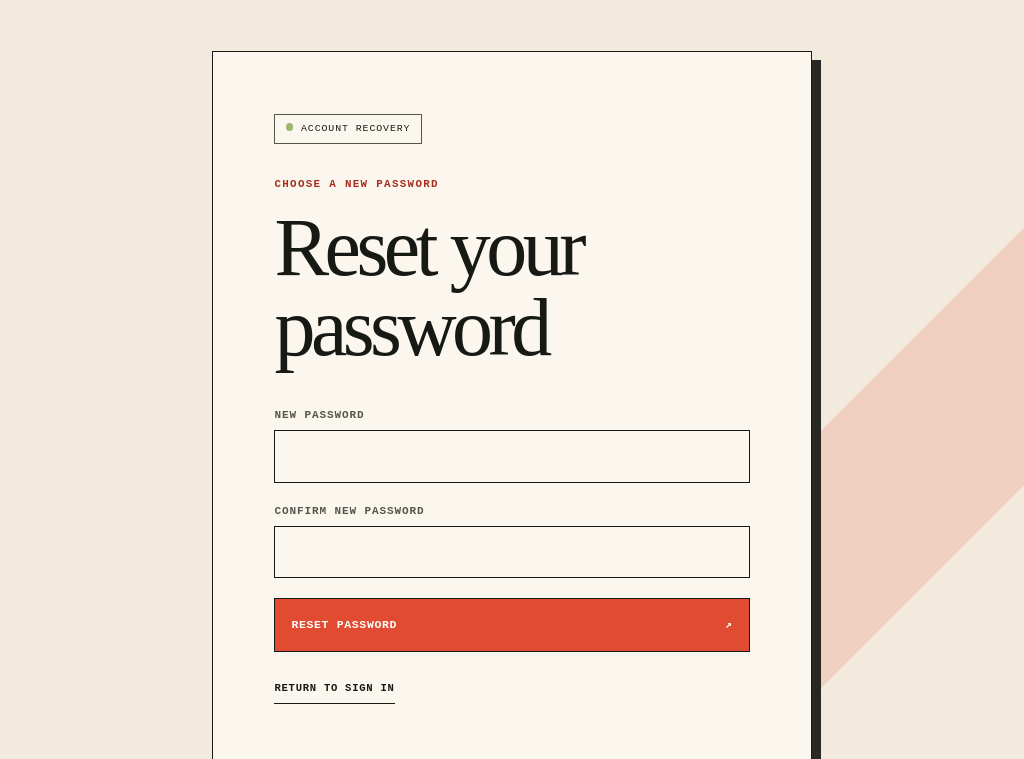
Test case: AI project workshop › renders the stable ACCOUNT_ACTION_EXPIRED reset state without backend copy
Type "UpdatedPassword123!" into the password field labelled "New password". click: (512, 456)
box: 274,430 -> 750,483
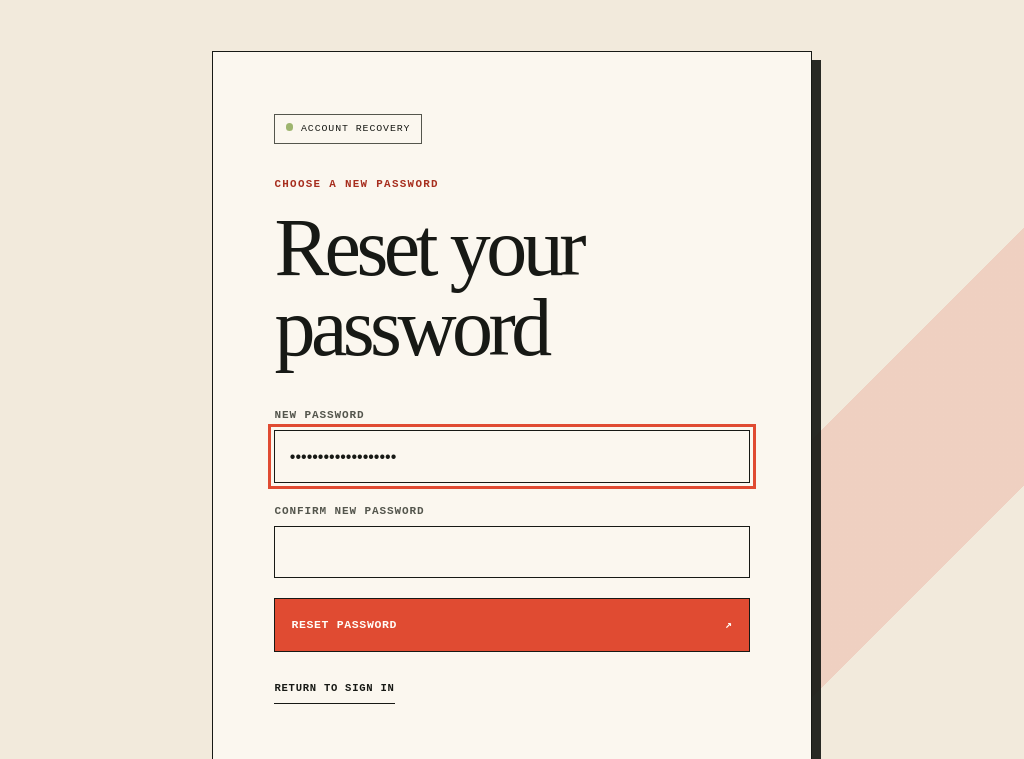
Type "UpdatedPassword123!" into the password field labelled "Confirm new password". click: (512, 552)
box: 274,526 -> 750,578
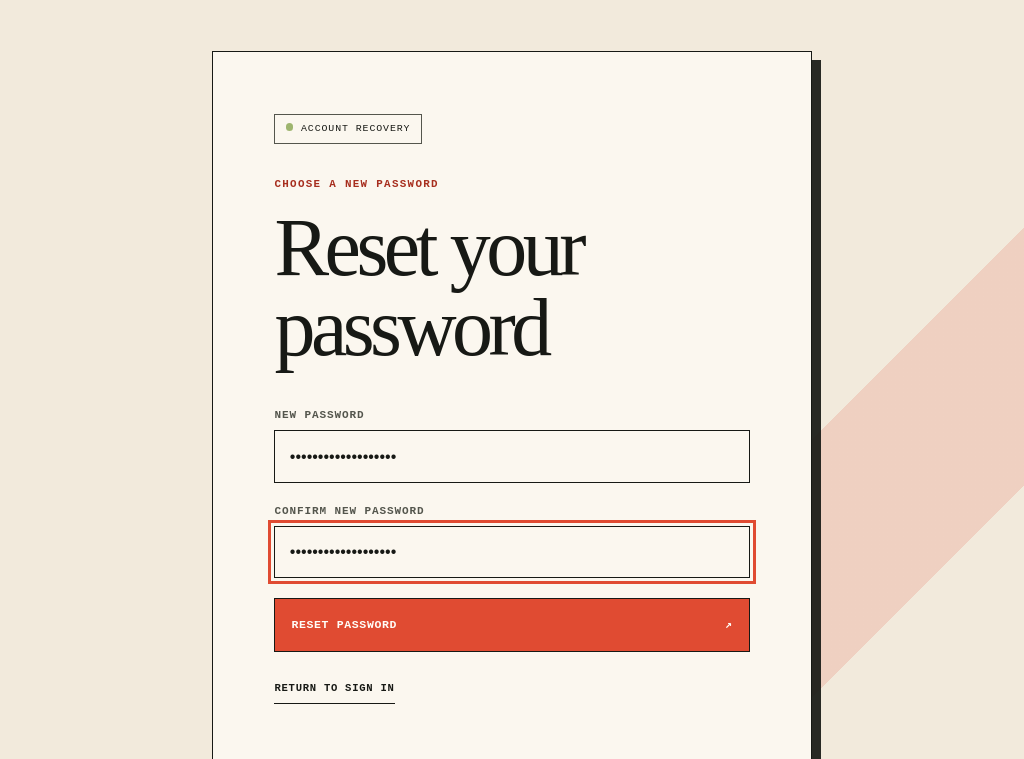
Click the button "Reset password ↗". click: (344, 625)
box: 274,598 -> 750,652
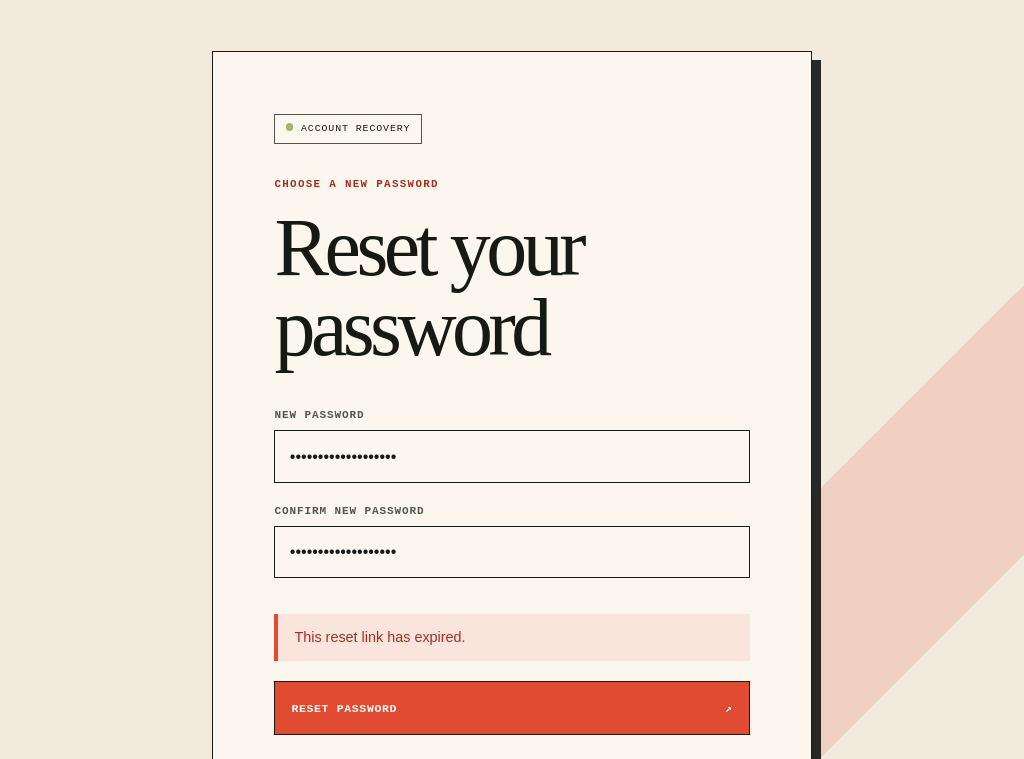
Check: the message reads "This reset link has expired.", box 294,629 -> 466,645
